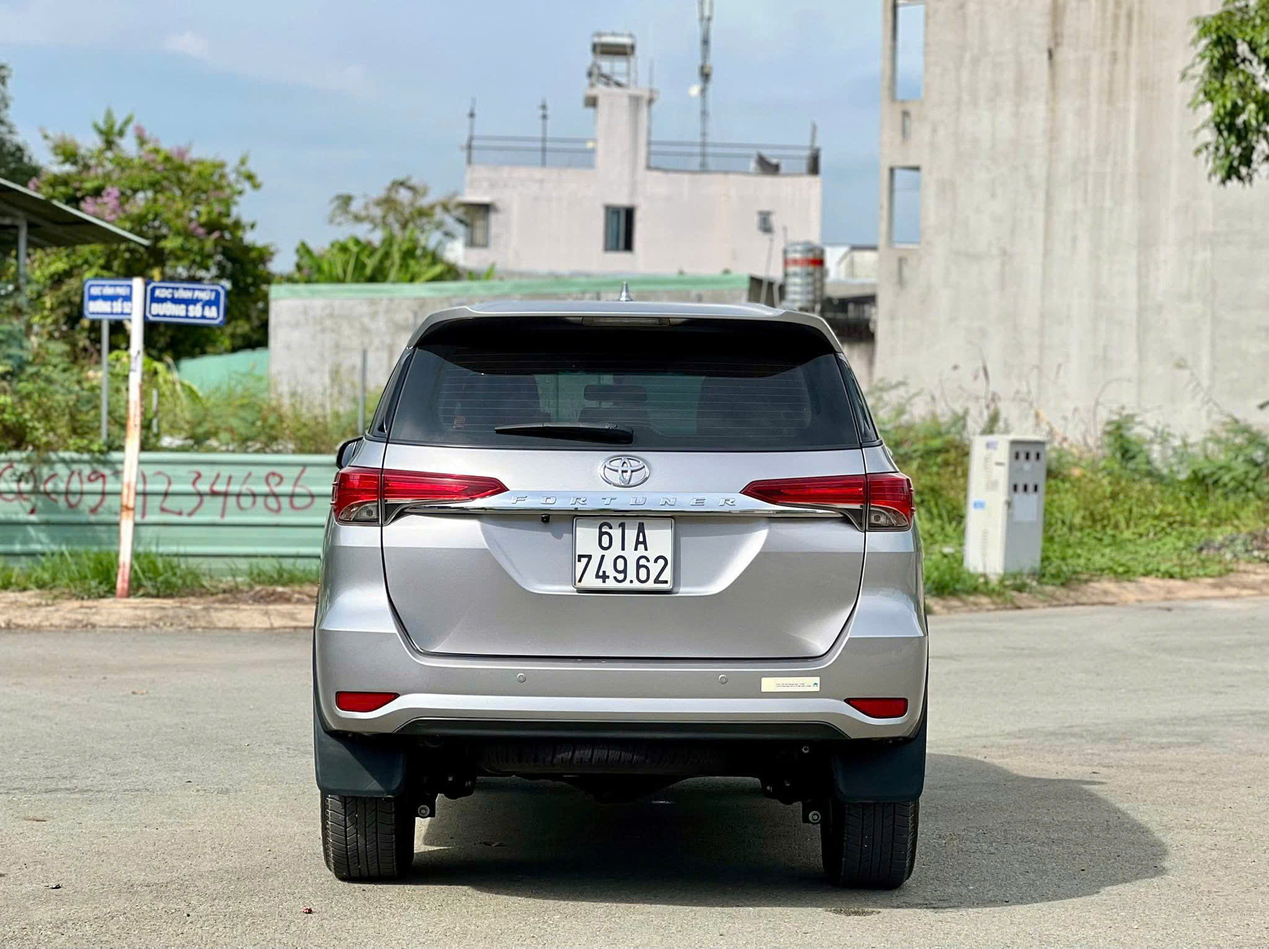Bien-so: (578, 515, 682, 596)
